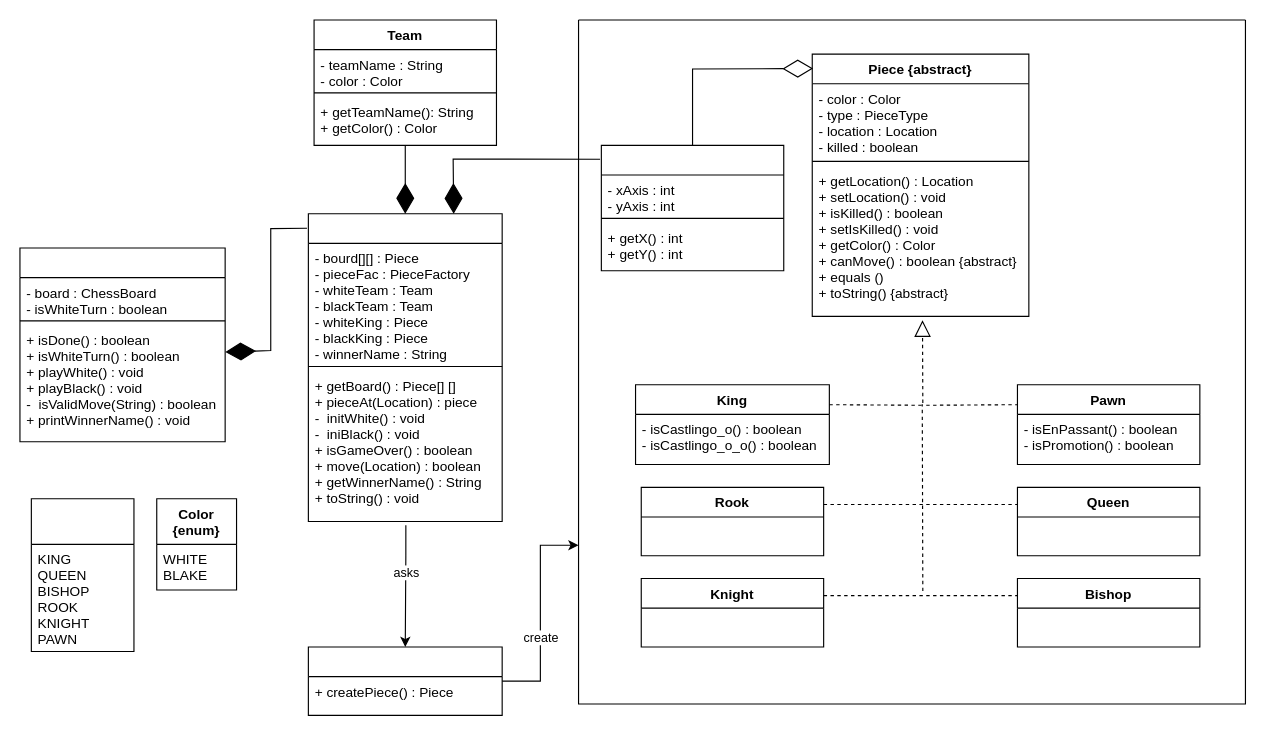
Image size: 1265x739. Some labels were removed from this diagram. The box of each missing label's shape, as (x1, y1, x2, y2) in pixels:
ChessBoard: (307, 213, 502, 522)
ChessGame: (19, 247, 225, 442)
Location: (600, 144, 784, 271)
PieceFactory: (307, 646, 502, 715)
PieceType {enum}: (30, 498, 134, 652)
